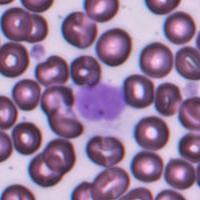M: (75, 80, 127, 122)
